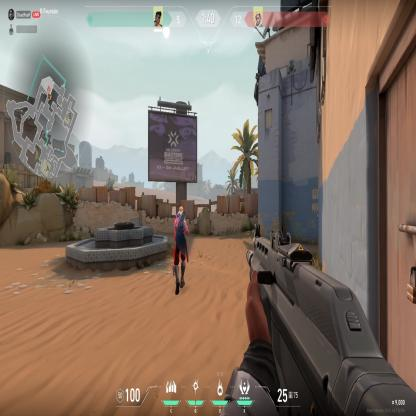enemy: (172, 204, 190, 296)
